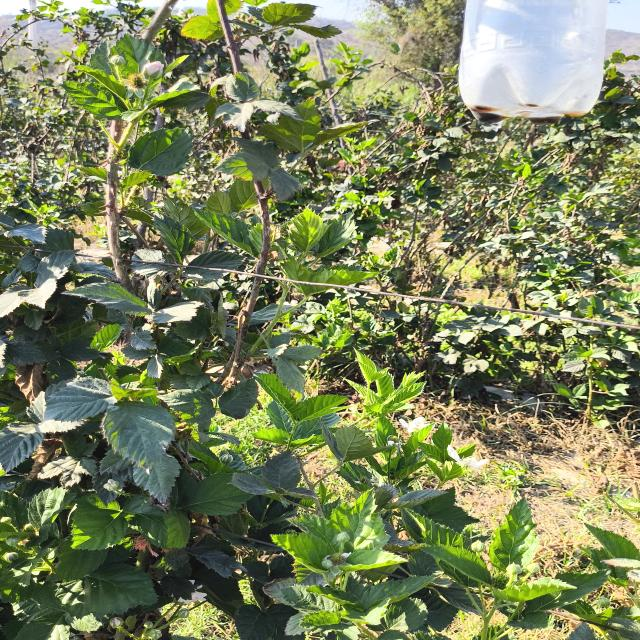boton: (143, 61, 164, 77), (471, 540, 485, 553), (506, 563, 521, 575), (109, 55, 125, 66), (220, 453, 233, 466), (525, 563, 540, 574), (337, 531, 349, 543), (322, 558, 333, 570)
